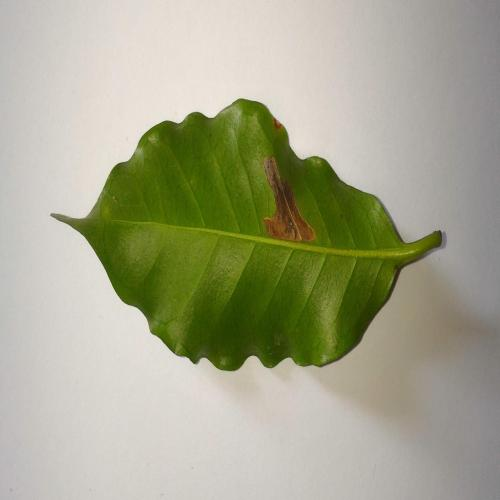leaf: (273, 116, 284, 131)
